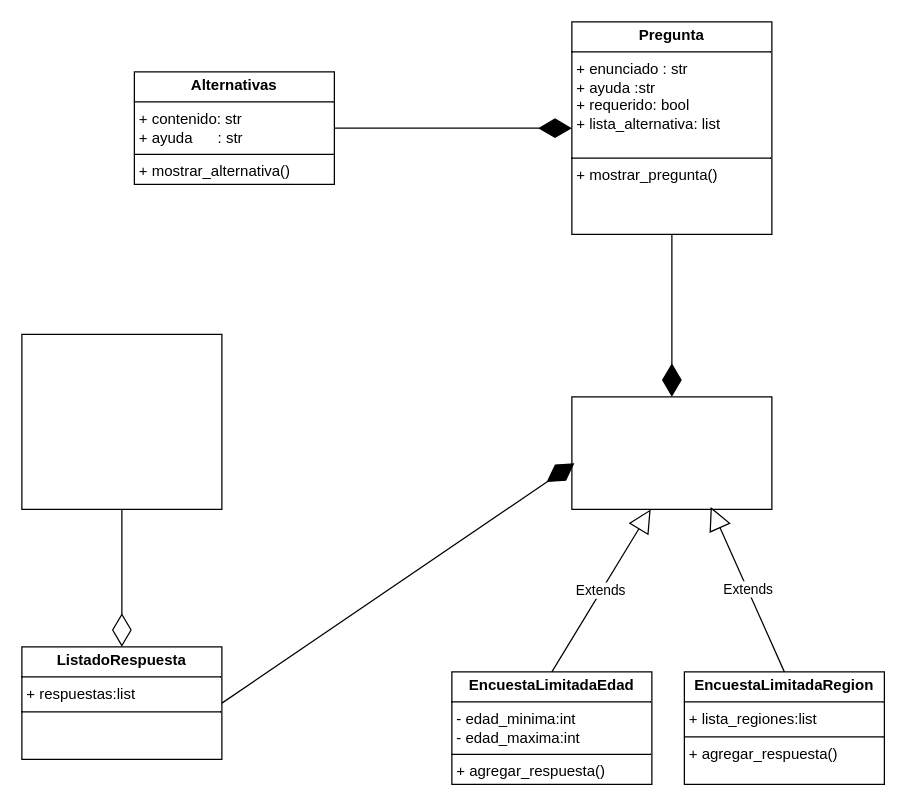
The diagram is 906 pixels wide and 806 high, and some of its shapes have lost their labels. Each missing label, with the centre of its shape:
"Encuesta + nombre :str + mostrar_encuenta()" belongs at point (671, 452).
"Usuario - correo: str - edad:int -region: int + contextar_encuesta()" belongs at point (121, 421).
